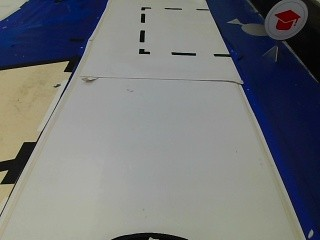school: (264, 0, 308, 42)
